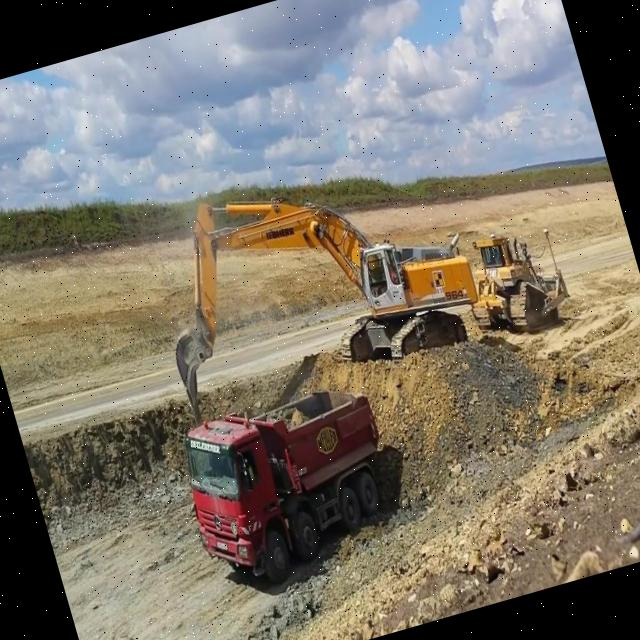Dump Truck: (165, 370, 414, 605)
Excavator: (132, 127, 490, 420)
Loader: (452, 214, 576, 347)
